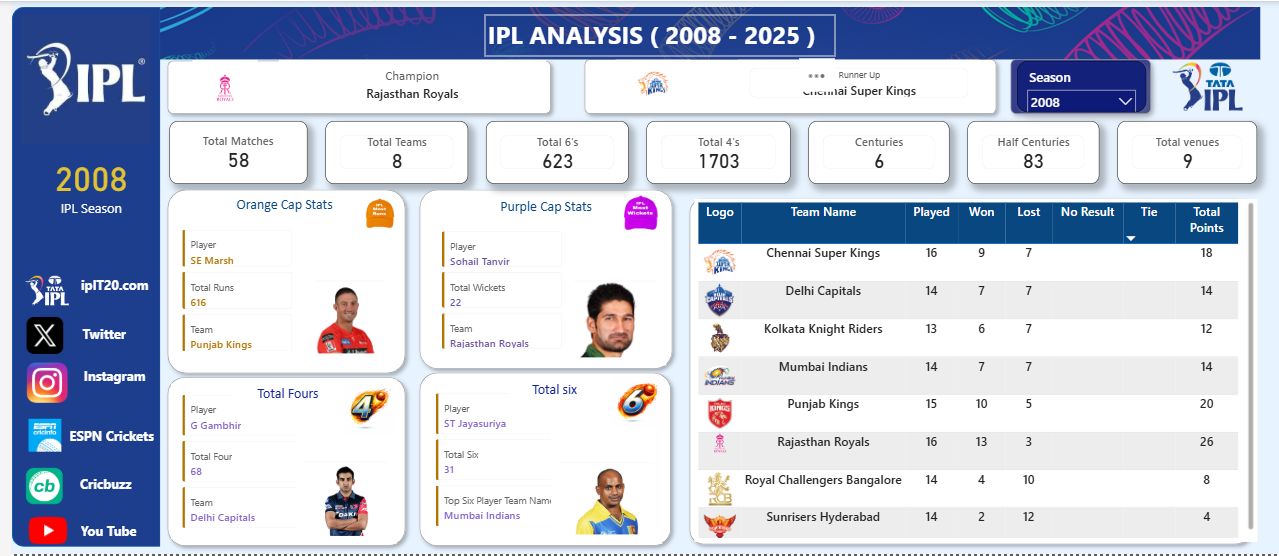

The dashboard page shown, as its layout file describes it:
{"tool":"powerbi","page":{"name":"IPL","canvas":[1950,850],"ordinal":0},"visuals":[{"type":"shape","box":[1524.8,78.4,237.6,106.1],"z":0,"group":"g1"},{"type":"shape","box":[869.4,78.7,655,106.2],"z":0},{"type":"shape","box":[615.9,560.6,408.3,288.3],"z":0,"group":"g6"},{"type":"cardVisual","fields":{"Data":["ball_by_ball_data.Runner Up Logo"]},"box":[922.7,30,126.9,140.7],"z":1000},{"type":"shape","box":[228.4,279.1,387.5,304.5],"z":1000,"group":"g3"},{"type":"shape","box":[228.4,567.5,387.5,281.4],"z":1000,"group":"g5"},{"type":"cardVisual","fields":{"Data":["ball_by_ball_data.Runner Up"]},"box":[1116.5,85.4,371.4,80.7],"z":2000},{"type":"cardVisual","fields":{"Data":["ball_by_ball_data.Top Four Player Name","ball_by_ball_data.Top Four Count","ball_by_ball_data.Top Four Player Team Name"]},"box":[243.9,588.9,295.3,239.5],"z":2000,"group":"g5"},{"type":"shape","box":[228.4,80.7,611.3,103.8],"z":3000},{"type":"cardVisual","fields":{"Data":["ball_by_ball_data.Orange Cap Holder Image"]},"box":[448.8,295.2,140.5,269.9],"z":3000,"group":"g3"},{"type":"shape","box":[1031.1,293,883.5,553.6],"z":4000},{"type":"cardVisual","fields":{"Data":["ball_by_ball_data.Season Winner"]},"box":[410.6,85.4,410.6,85.4],"z":5000},{"type":"cardVisual","fields":{"Data":["ball_by_ball_data.Season Winner Logo"]},"box":[272.2,41.5,110.7,133.8],"z":6000},{"type":"cardVisual","fields":{"Data":["ball_by_ball_data.Orange Cap Holder","ball_by_ball_data.Orange Cap Runs","ball_by_ball_data.Orange Cap Holder Team Name"]},"box":[245.4,334.5,203.5,221.5],"z":6000,"group":"g3"},{"type":"image","box":[88.5,9.8,1860.8,80.6],"z":7000},{"type":"shape","box":[615.9,279.1,410.6,297.6],"z":7000,"group":"g2"},{"type":"cardVisual","fields":{"Data":["ball_by_ball_data.Top Four Player Image"]},"box":[430.9,575.6,165.3,263.4],"z":7000,"group":"g5"},{"type":"textbox","box":[725.8,19.7,540.9,64.9],"z":8000},{"type":"cardVisual","fields":{"Data":["ball_by_ball_data.PurpleCapImage"]},"box":[833.3,295,178.7,270.3],"z":8000,"group":"g2"},{"type":"shape","box":[0,9.8,228.2,830.1],"z":9000},{"type":"cardVisual","fields":{"Data":["ball_by_ball_data.Total 4's"]},"box":[975.8,184.5,221.5,96.9],"z":10000},{"type":"cardVisual","fields":{"Data":["ball_by_ball_data.Total Matches"]},"box":[242.2,184.5,212.2,96.9],"z":11000},{"type":"cardVisual","fields":{"Data":["ball_by_ball_data.Total Teams"]},"box":[482.1,184.5,219.1,96.9],"z":12000},{"type":"cardVisual","fields":{"Data":["ball_by_ball_data.Centuries"]},"box":[1224.9,184.5,216.8,96.9],"z":13000},{"type":"cardVisual","fields":{"Data":["ball_by_ball_data.Half Centuries"]},"box":[1469.4,184.5,203,96.9],"z":14000},{"type":"cardVisual","fields":{"Data":["ball_by_ball_data.Total venues"]},"box":[1700.1,184.5,214.5,96.9],"z":15000},{"type":"tableEx","fields":{"Values":["teams_data.image_url","teams_data.team_name","ball_by_ball_data.Matches played","ball_by_ball_data.Match Won","ball_by_ball_data.Matches Lost","ball_by_ball_data.NO Result Matches","ball_by_ball_data.Tie Matches","ball_by_ball_data.Total Points"]},"box":[1049.6,304.5,865,525.9],"z":16000},{"type":"image","box":[1762.4,94.6,152.2,73.8],"z":17000},{"type":"group","id":"g1","title":"Group 1","box":[1524.8,78.4,237.6,106.1],"z":18000},{"type":"slicer","fields":{"Values":["ipl_matches_data.season"]},"box":[1545.6,92.2,198.4,78.4],"z":18000,"group":"g1"},{"type":"cardVisual","fields":{"Data":["ball_by_ball_data.PurpleCapHolder","ball_by_ball_data.PurpleCapWicketCount","ball_by_ball_data.Purple_Cap_Team"]},"box":[642.5,335.9,219.8,215.8],"z":19000,"group":"g2"},{"type":"actionButton","box":[87.7,403.7,140.7,64.6],"z":19000},{"type":"textbox","box":[739.1,297.3,166.7,38.6],"z":20000,"group":"g2"},{"type":"image","box":[20.8,410.6,66.9,69.2],"z":20000,"group":"g4"},{"type":"actionButton","box":[71.5,479.8,140.7,64.6],"z":20000},{"type":"card","fields":{"Values":["ball_by_ball_data.IPL Season"]},"box":[20.8,207.7,201.6,145.6],"z":21000,"group":"g4"},{"type":"image","box":[922.6,297.3,89.4,56.8],"z":21000,"group":"g2"},{"type":"actionButton","box":[87.7,544.4,140.7,64.6],"z":21000},{"type":"cardVisual","fields":{"Data":["ball_by_ball_data.Top Six Player Name","ball_by_ball_data.Top Six Count","ball_by_ball_data.Top Six Player Team Name"]},"box":[633.7,585.5,286.7,240.2],"z":21000,"group":"g6"},{"type":"image","box":[13.8,20.8,198.4,198.4],"z":22000,"group":"g4"},{"type":"textbox","box":[338.7,586.3,170.7,42.6],"z":22000,"group":"g5"},{"type":"actionButton","box":[76.1,636.7,154.6,64.6],"z":22000},{"type":"cardVisual","fields":{"Data":["ball_by_ball_data.Top Six Player image"]},"box":[823.1,580.2,181.5,261.5],"z":23000,"group":"g6"},{"type":"actionButton","box":[66.9,710.5,154.6,64.6],"z":23000},{"type":"textbox","box":[310.8,295.2,215.6,39.2],"z":24000,"group":"g3"},{"type":"image","box":[6.9,468.3,87.7,92.3],"z":24000,"group":"g4"},{"type":"textbox","box":[762.6,580.2,142,37.4],"z":24000,"group":"g6"},{"type":"actionButton","box":[71.5,782,154.6,64.6],"z":24000},{"type":"group","id":"g2","title":"Group 2","box":[615.9,279.1,410.6,297.6],"z":25000},{"type":"image","box":[542.3,287.5,48.2,76.7],"z":25000,"group":"g3"},{"type":"group","id":"g3","title":"Group 3","box":[228.4,279.1,387.5,304.5],"z":26000},{"type":"image","box":[20.8,556,66.9,62.3],"z":26000,"group":"g4"},{"type":"group","id":"g4","title":"Group 6","box":[0,20.8,222.4,816.6],"z":27000},{"type":"image","box":[20.8,712.8,57.7,66.9],"z":27000,"group":"g4"},{"type":"cardVisual","fields":{"Data":["ball_by_ball_data.Total 6's"]},"box":[728.9,184.5,219.1,96.9],"z":28000},{"type":"image","box":[0,625.2,101.5,85.4],"z":28000,"group":"g4"},{"type":"group","id":"g5","title":"Group 4","box":[228.4,567.5,387.5,281.4],"z":29000},{"type":"image","box":[25.4,791.3,60,46.1],"z":29000,"group":"g4"},{"type":"group","id":"g6","title":"Group 5","box":[615.9,560.6,408.3,288.3],"z":30000},{"type":"image","box":[509,586.9,82.2,80.7],"z":43000,"group":"g5"},{"type":"image","box":[922.6,574.2,77.5,85.7],"z":44000,"group":"g6"}]}

Visuals, with their boxes in screenshot pixels (x1, y1, x2, y2), scaled from the page's 1950x850 canvas onto the 1279x556 screenshot:
shape: locate(1000, 51, 1156, 121)
shape: locate(570, 51, 1000, 121)
shape: locate(404, 367, 672, 555)
cardVisual - ball_by_ball_data.Runner Up Logo: locate(605, 20, 688, 112)
shape: locate(150, 183, 404, 382)
shape: locate(150, 371, 404, 555)
cardVisual - ball_by_ball_data.Runner Up: locate(732, 56, 976, 109)
cardVisual - ball_by_ball_data.Top Four Player Name x ball_by_ball_data.Top Four Count: locate(160, 385, 354, 542)
shape: locate(150, 53, 551, 121)
cardVisual - ball_by_ball_data.Orange Cap Holder Image: locate(294, 193, 387, 370)
shape: locate(676, 192, 1256, 554)
cardVisual - ball_by_ball_data.Season Winner: locate(269, 56, 539, 112)
cardVisual - ball_by_ball_data.Season Winner Logo: locate(179, 27, 251, 115)
cardVisual - ball_by_ball_data.Orange Cap Holder x ball_by_ball_data.Orange Cap Runs: locate(161, 219, 294, 364)
image: locate(58, 6, 1278, 59)
shape: locate(404, 183, 673, 377)
cardVisual - ball_by_ball_data.Top Four Player Image: locate(283, 377, 391, 549)
textbox: locate(476, 13, 831, 55)
cardVisual - ball_by_ball_data.PurpleCapImage: locate(547, 193, 664, 370)
shape: locate(0, 6, 150, 549)
cardVisual - ball_by_ball_data.Total 4's: locate(640, 121, 785, 184)
cardVisual - ball_by_ball_data.Total Matches: locate(159, 121, 298, 184)
cardVisual - ball_by_ball_data.Total Teams: locate(316, 121, 460, 184)
cardVisual - ball_by_ball_data.Centuries: locate(803, 121, 946, 184)
cardVisual - ball_by_ball_data.Half Centuries: locate(964, 121, 1097, 184)
cardVisual - ball_by_ball_data.Total venues: locate(1115, 121, 1256, 184)
tableEx - teams_data.image_url x teams_data.team_name: locate(688, 199, 1256, 543)
image: locate(1156, 62, 1256, 110)
"Group 1" group: locate(1000, 51, 1156, 121)
slicer - ipl_matches_data.season: locate(1014, 60, 1144, 112)
cardVisual - ball_by_ball_data.PurpleCapHolder x ball_by_ball_data.PurpleCapWicketCount: locate(421, 220, 566, 361)
actionButton: locate(58, 264, 150, 306)
textbox: locate(485, 194, 594, 220)
image: locate(14, 269, 58, 314)
actionButton: locate(47, 314, 139, 356)
card - ball_by_ball_data.IPL Season: locate(14, 136, 146, 231)
image: locate(605, 194, 664, 232)
actionButton: locate(58, 356, 150, 398)
cardVisual - ball_by_ball_data.Top Six Player Name x ball_by_ball_data.Top Six Count: locate(416, 383, 604, 540)
image: locate(9, 14, 139, 143)
textbox: locate(222, 384, 334, 411)
actionButton: locate(50, 416, 151, 459)
cardVisual - ball_by_ball_data.Top Six Player image: locate(540, 380, 659, 551)
actionButton: locate(44, 465, 145, 507)
textbox: locate(204, 193, 345, 219)
image: locate(5, 306, 62, 367)
textbox: locate(500, 380, 593, 404)
actionButton: locate(47, 512, 148, 554)
"Group 2" group: locate(404, 183, 673, 377)
image: locate(356, 188, 387, 238)
"Group 3" group: locate(150, 183, 404, 382)
image: locate(14, 364, 58, 404)
"Group 6" group: locate(0, 14, 146, 548)
image: locate(14, 466, 51, 510)
cardVisual - ball_by_ball_data.Total 6's: locate(478, 121, 622, 184)
image: locate(0, 409, 67, 465)
"Group 4" group: locate(150, 371, 404, 555)
image: locate(17, 518, 56, 548)
"Group 5" group: locate(404, 367, 672, 555)
image: locate(334, 384, 388, 437)
image: locate(605, 376, 656, 432)
